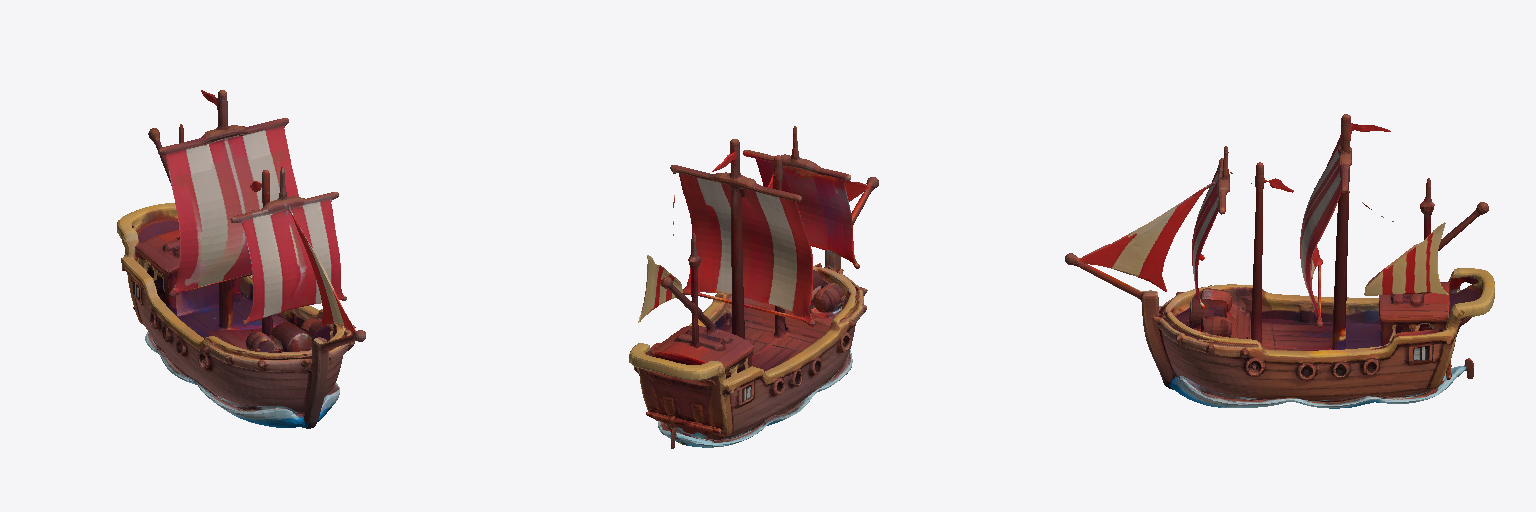
The picture shows the model from 3 angles: view 1: azimuth 30°, elevation 25°; view 2: azimuth 150°, elevation 25°; view 3: azimuth 270°, elevation 25°; orthographic projection.
Visible parts, largest first — view 1: tripo_node_f939db32-f947-4c5a-928c-5ab082af6190; view 2: tripo_node_f939db32-f947-4c5a-928c-5ab082af6190; view 3: tripo_node_f939db32-f947-4c5a-928c-5ab082af6190.
Boxes of the visible parts, x1=… form: tripo_node_f939db32-f947-4c5a-928c-5ab082af6190: x1=117, y1=90, x2=365, y2=428; tripo_node_f939db32-f947-4c5a-928c-5ab082af6190: x1=629, y1=126, x2=878, y2=448; tripo_node_f939db32-f947-4c5a-928c-5ab082af6190: x1=1065, y1=114, x2=1494, y2=408.
Size of the model in its own units: 0.3737 by 0.723 by 0.9998.
Materials: 1 (1 with a texture image).